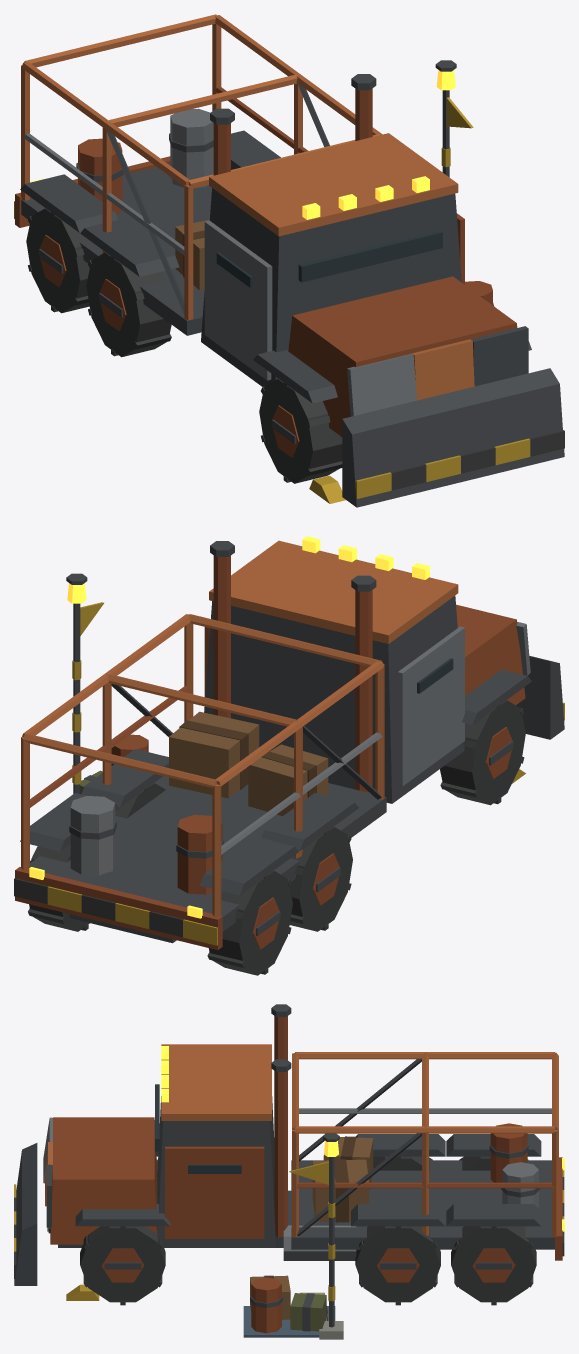
Rendered from vehicle_parked_extraction_t5.glb.
3 renders of one model, top to bottom at view 1: azimuth 30°, elevation 25°; view 2: azimuth 150°, elevation 25°; view 3: azimuth 270°, elevation 25°, orthographic. The views are drawn at different scales.
Parts seen in each view (by area): view 1: vehicle, beacon; view 2: vehicle, beacon, stash; view 3: vehicle, stash, beacon.
Part boxes in pixels (box(x1,y1,x2,y2)): vehicle: box(14, 14, 564, 507); beacon: box(435, 60, 473, 177); vehicle: box(14, 536, 564, 975); beacon: box(66, 573, 103, 793); stash: box(80, 734, 148, 794); vehicle: box(14, 1004, 564, 1305); stash: box(243, 1275, 335, 1337); beacon: box(289, 1133, 343, 1339).
Size of the model in its own units: 3.7 by 3.3 by 7.2.
